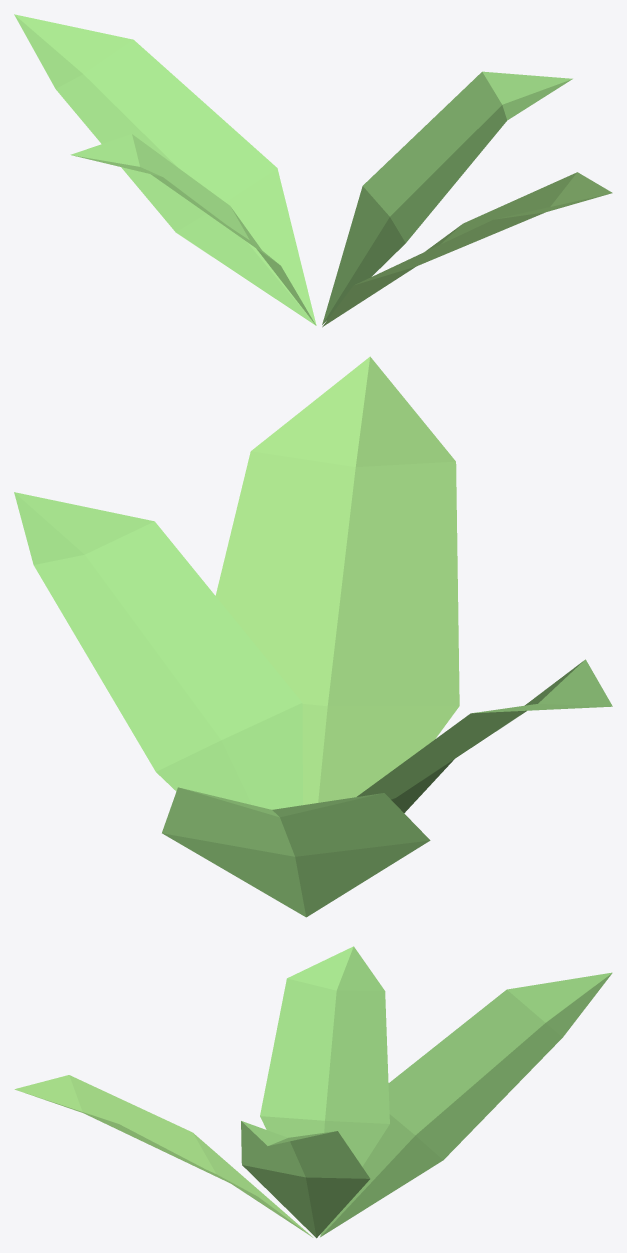
The model's file is Plant_k_OneS_03.fbx.
3 views of the same model, one above another, from view 1: azimuth 30°, elevation 25°; view 2: azimuth 150°, elevation 25°; view 3: azimuth 270°, elevation 25° (orthographic). The views are drawn at different scales.
Parts seen in each view (by area): view 1: Plant_k_OneS_03; view 2: Plant_k_OneS_03; view 3: Plant_k_OneS_03.
Part boxes in pixels (left/top/right/bottom): Plant_k_OneS_03: left=14, top=14, right=612, bottom=327; Plant_k_OneS_03: left=14, top=356, right=612, bottom=917; Plant_k_OneS_03: left=14, top=946, right=612, bottom=1238.
Bounding box in the file's own units: 28.99 × 13.79 × 36.7.
